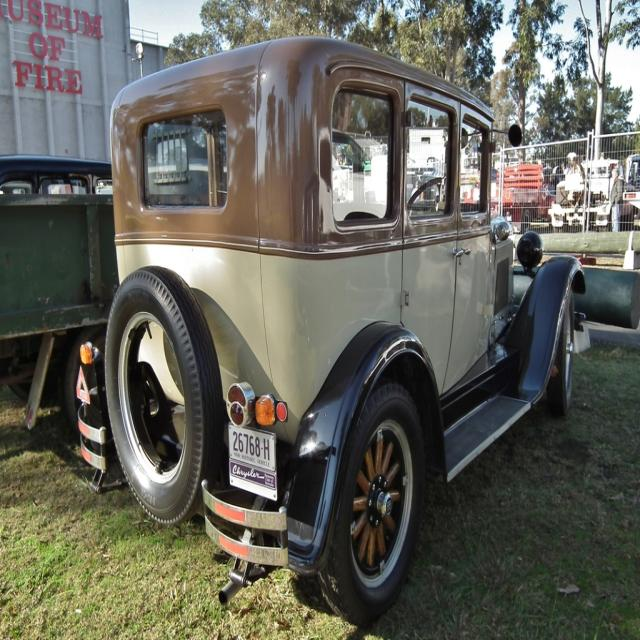car: (74, 36, 592, 629)
